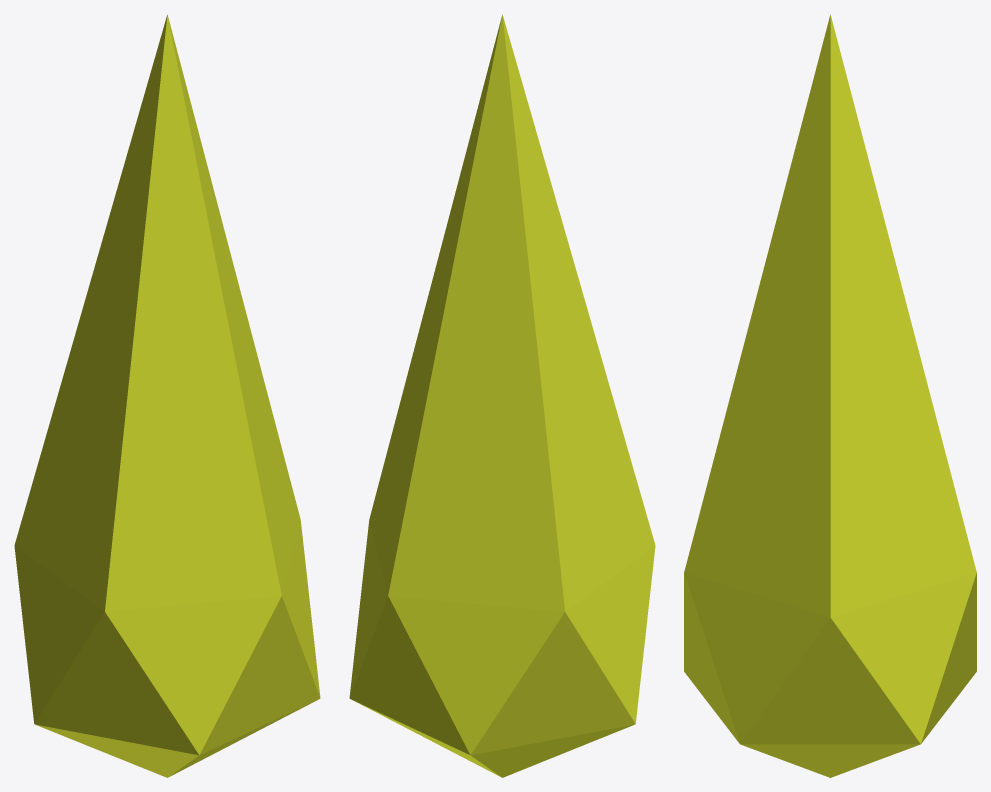
File: icecreamyellglb.glb
The picture shows the model from 3 angles, left to right: view 1: azimuth 30°, elevation 25°; view 2: azimuth 150°, elevation 25°; view 3: azimuth 270°, elevation 25°; orthographic projection.
Parts seen in each view (by area): view 1: Icosphere; view 2: Icosphere; view 3: Icosphere.
Part boxes in pixels (x1,y1,x2,y2): Icosphere: [14, 14, 320, 777]; Icosphere: [349, 14, 655, 777]; Icosphere: [684, 14, 976, 777].
Size of the model in its own units: 1.79 by 4.9 by 1.7.
